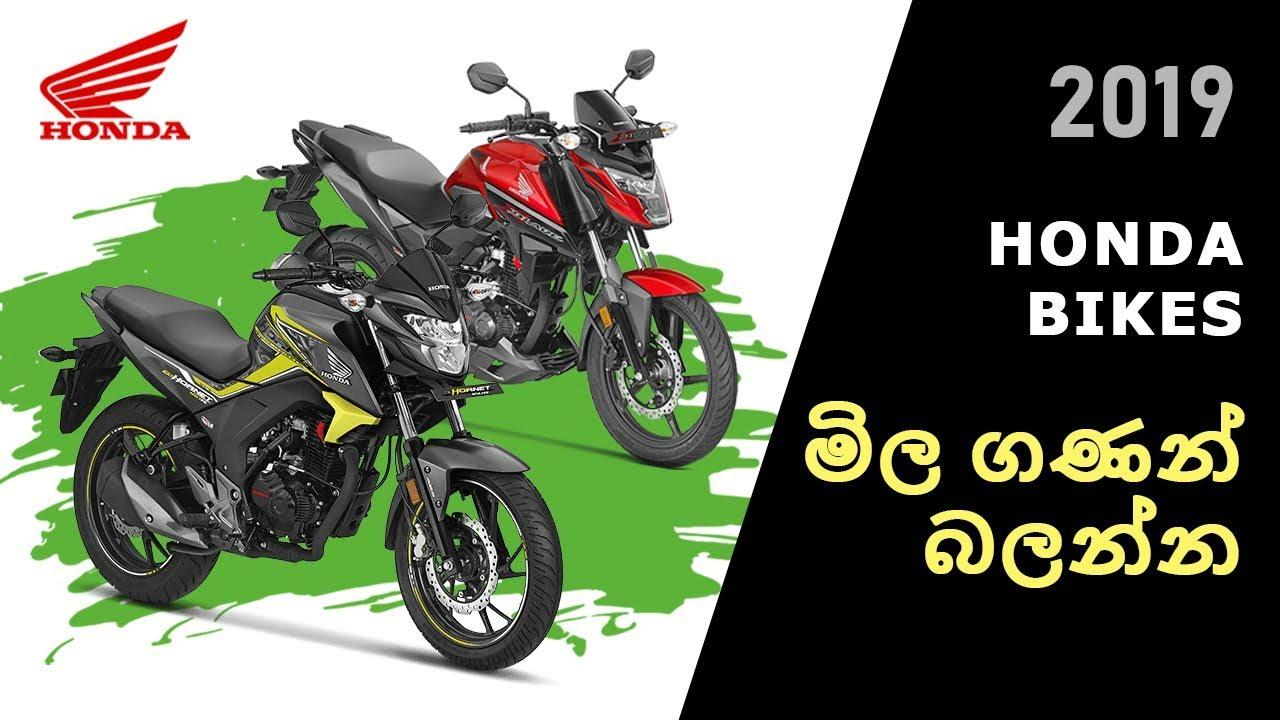motorbike: (40, 202, 562, 674), (258, 48, 738, 468)
